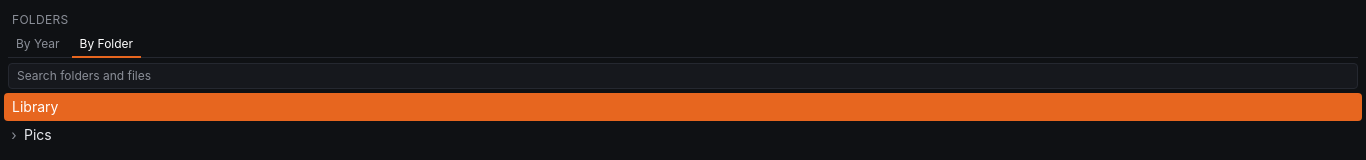
Scenario: FoldersSection › search with no hits shows No matches
This screenshot has width=1366, height=160.
In the search field: (683, 76) [8,63,1358,89], type "zzz"
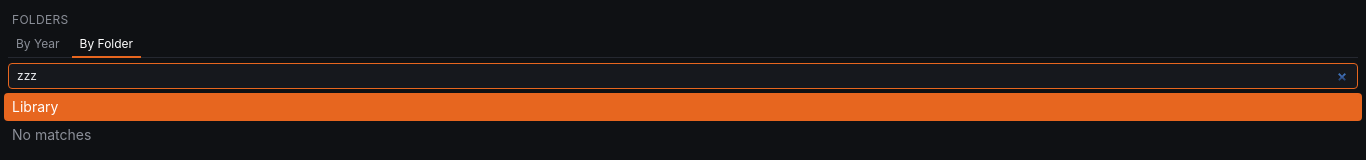
Check: the list item "No matches" is shown, box [12,126,91,143]
